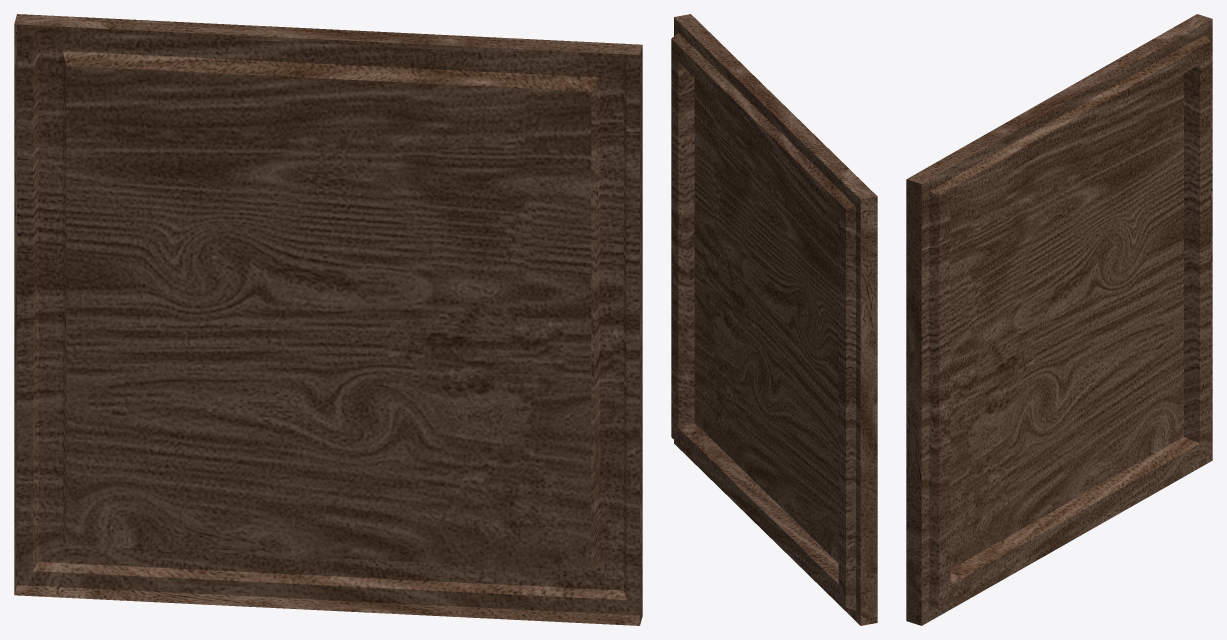
File: Painting Frame.fbx
3 views of the same model, side by side, from view 1: azimuth 30°, elevation 25°; view 2: azimuth 150°, elevation 25°; view 3: azimuth 270°, elevation 25° (orthographic). The views are drawn at different scales.
Parts seen in each view (by area): view 1: Painting_Frame:Painting_Frame; view 2: Painting_Frame:Painting_Frame; view 3: Painting_Frame:Painting_Frame.
Boxes of the visible parts, left/top/right/bottom form: Painting_Frame:Painting_Frame: left=14, top=14, right=642, bottom=625; Painting_Frame:Painting_Frame: left=671, top=14, right=877, bottom=625; Painting_Frame:Painting_Frame: left=906, top=14, right=1212, bottom=625.
Size of the model in its own units: 0.7583 by 0.918 by 0.5765.
